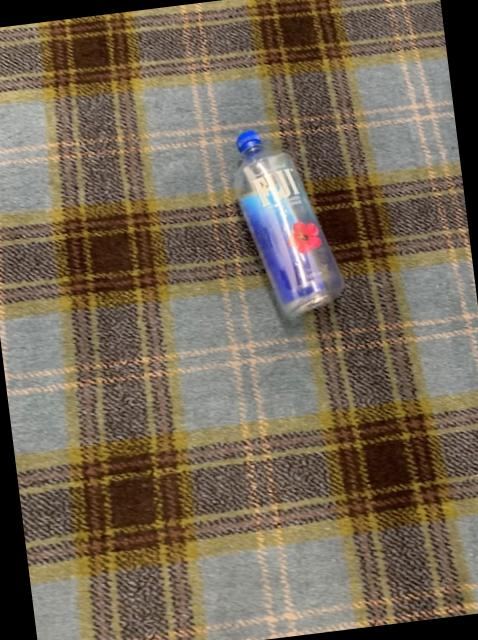plastic: (233, 129, 343, 315)
